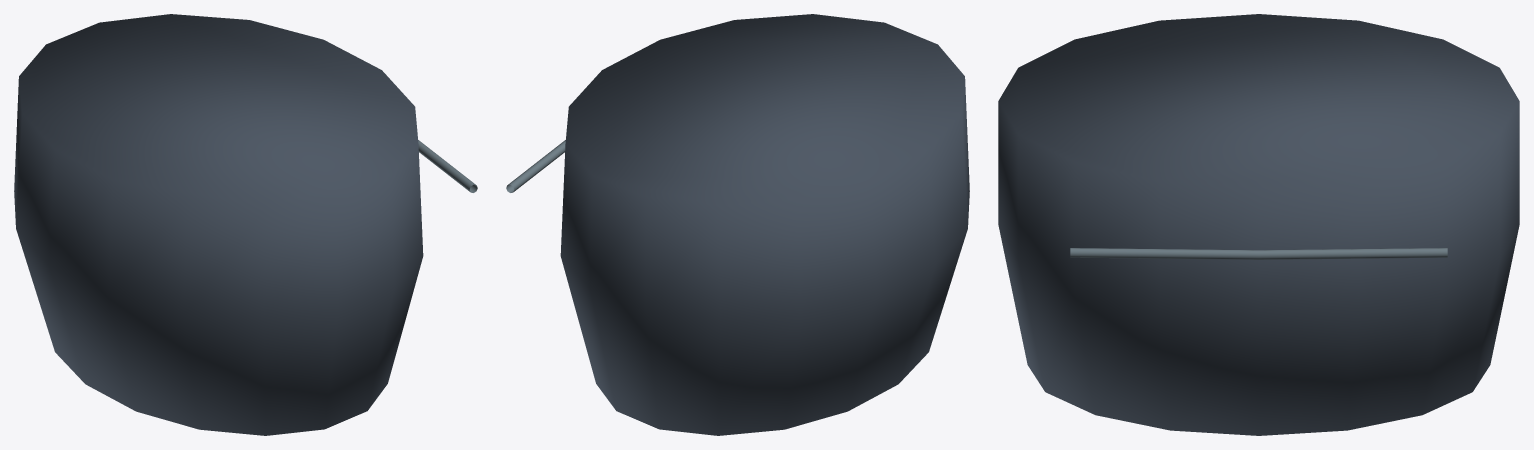
File: SM_Hider_Pelvis.glb
3 views of the same model, side by side, from view 1: azimuth 30°, elevation 25°; view 2: azimuth 150°, elevation 25°; view 3: azimuth 270°, elevation 25° (orthographic). The views are drawn at different scales.
Parts seen in each view (by area): view 1: SM_Hider_Pelvis; view 2: SM_Hider_Pelvis; view 3: SM_Hider_Pelvis.
Boxes of the visible parts, x1,y1,x2,y2 form: SM_Hider_Pelvis: (14,14,477,435); SM_Hider_Pelvis: (506,14,969,435); SM_Hider_Pelvis: (998,14,1519,435).
Bounding box in the file's own units: 0.255 × 0.17 × 0.304.
